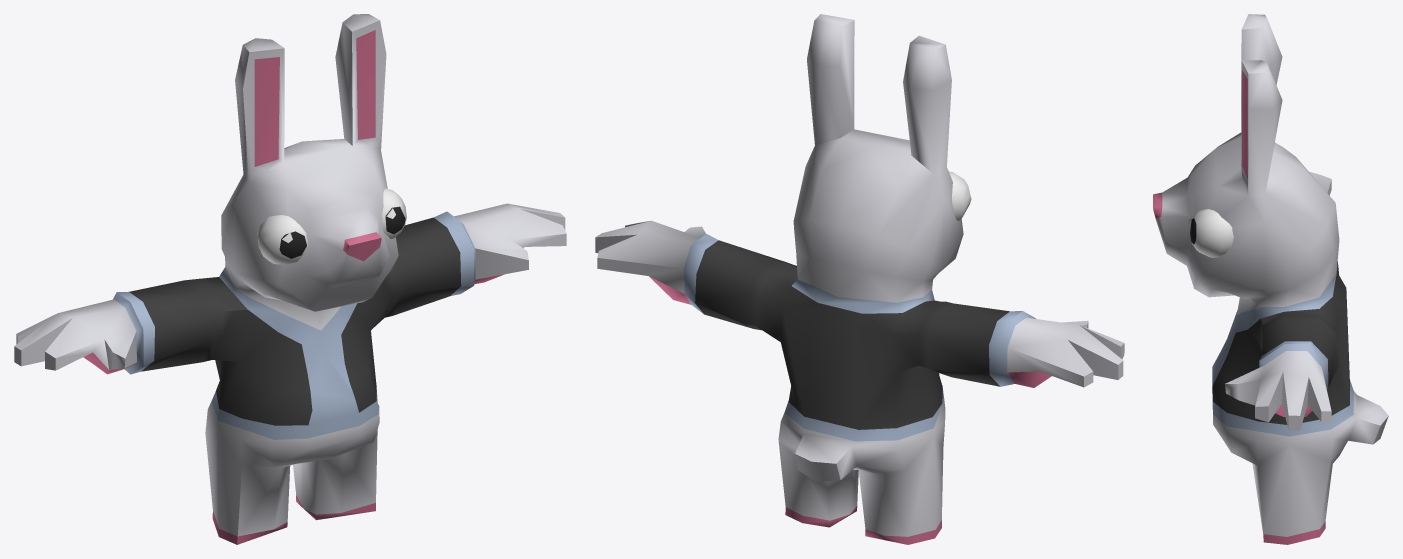
Rendered from rabbit.glb.
3 views of the same model, side by side, from view 1: azimuth 30°, elevation 25°; view 2: azimuth 150°, elevation 25°; view 3: azimuth 270°, elevation 25° (orthographic). The views are drawn at different scales.
Visible parts, largest first — view 1: Rabbit, Eyes; view 2: Rabbit, Eyes; view 3: Rabbit, Eyes.
Part boxes in pixels (left/top/right/bottom): Rabbit: left=14, top=14, right=566, bottom=544; Eyes: left=257, top=188, right=406, bottom=264; Rabbit: left=595, top=14, right=1124, bottom=544; Eyes: left=949, top=171, right=971, bottom=221; Rabbit: left=1153, top=14, right=1388, bottom=544; Eyes: left=1188, top=209, right=1233, bottom=257.
Bounding box in the file's own units: 4.72 × 4.13 × 1.88.
Materials: 1 (1 with a texture image).
